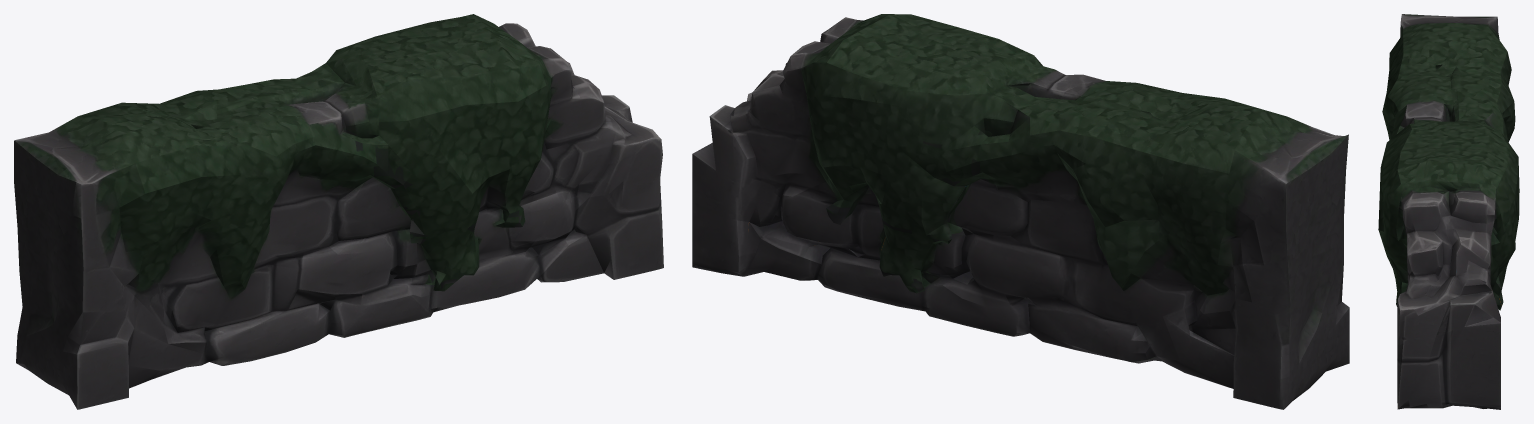
File: wh-wall-vinestone-b-meshy.glb
The picture shows the model from 3 angles, left to right: view 1: azimuth 30°, elevation 25°; view 2: azimuth 150°, elevation 25°; view 3: azimuth 270°, elevation 25°; orthographic projection. The views are drawn at different scales.
Size of the model in its own units: 1.9 by 0.7787 by 0.5129.
Materials: 1 (1 with a texture image).
